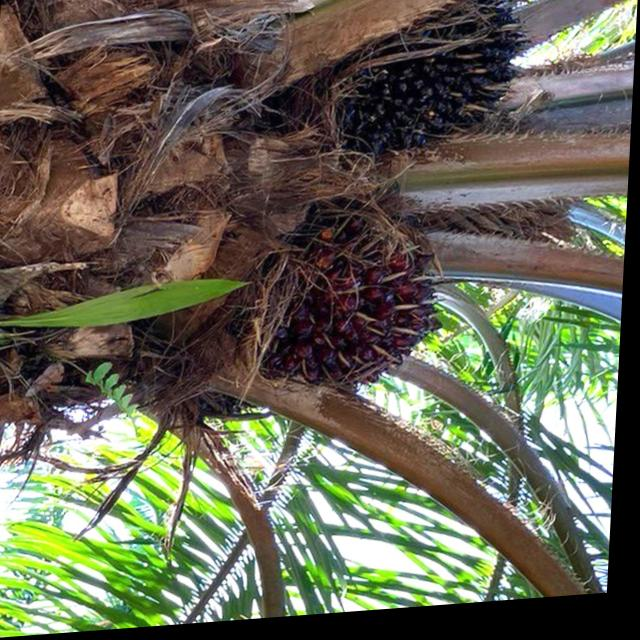ripe: (237, 198, 465, 414)
